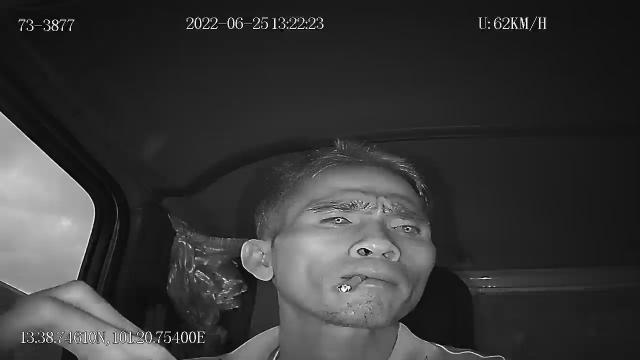SafeDriving: (313, 206, 360, 231), (382, 214, 428, 238)
Smoking: (338, 274, 367, 292)
